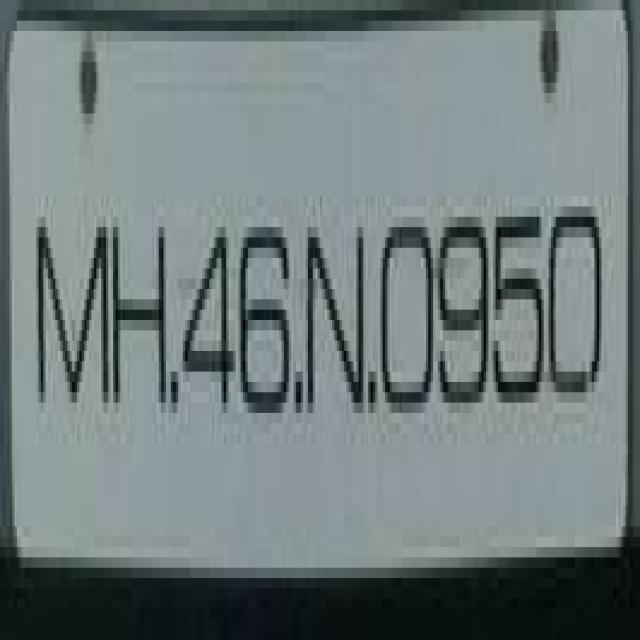license_plate: (19, 0, 640, 630)
